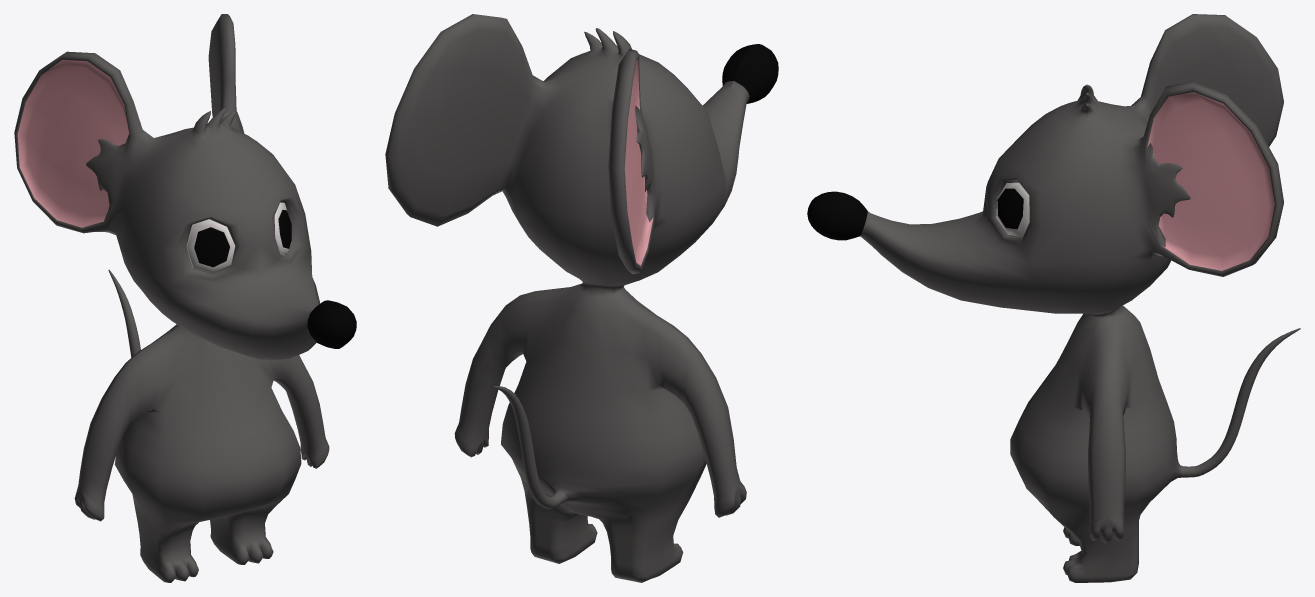
Rendered from Mouse.fbx.
The picture shows the model from 3 angles, left to right: view 1: azimuth 30°, elevation 25°; view 2: azimuth 150°, elevation 25°; view 3: azimuth 270°, elevation 25°; orthographic projection. The views are drawn at different scales.
Visible parts, largest first — view 1: pCylinder2; view 2: pCylinder2; view 3: pCylinder2.
Boxes of the visible parts, box(x1,y1,x2,y2) form: pCylinder2: box(14, 14, 356, 582); pCylinder2: box(385, 14, 778, 582); pCylinder2: box(807, 14, 1300, 582).
Size of the model in its own units: 6.04 by 11.62 by 10.2.
